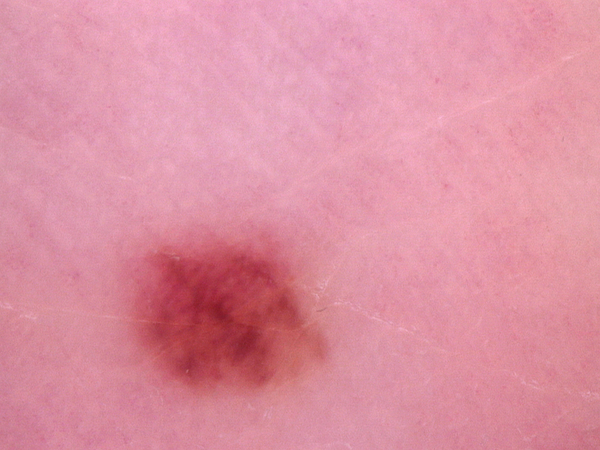Detected Lesion: (123, 233, 333, 393)
